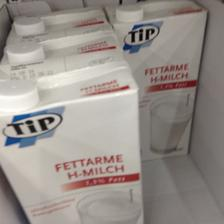Milch: (0, 66, 142, 222), (109, 3, 208, 166)
